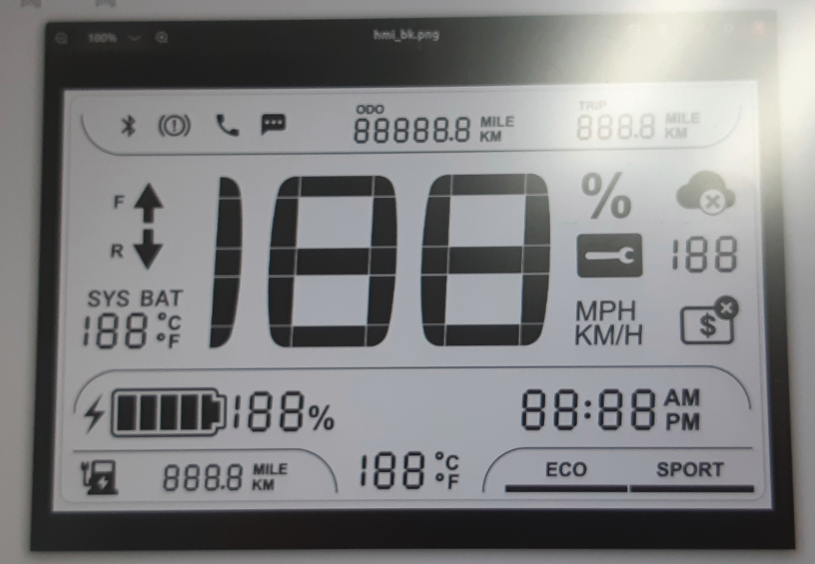bluetooth_on: (117, 110, 143, 141)
braking_on: (155, 109, 193, 139)
calling_on: (212, 111, 243, 139)
connection_lost: (672, 168, 740, 219)
error_code: (572, 231, 645, 281)
low_battery: (77, 455, 121, 498)
sms_on: (257, 110, 289, 139)
vin_id: (677, 294, 742, 346)
